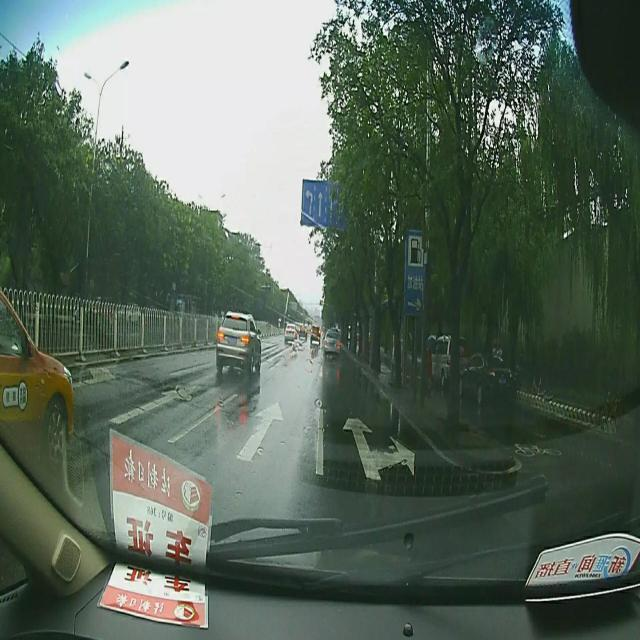car: (0, 290, 74, 465), (459, 350, 516, 410), (216, 310, 262, 375), (431, 334, 467, 382), (323, 329, 341, 356), (284, 324, 296, 344), (310, 324, 320, 342), (298, 324, 307, 336)
